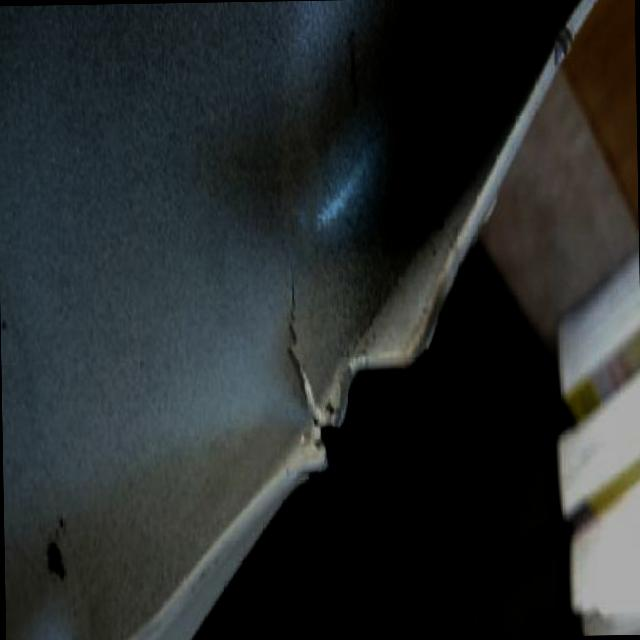crack: (286, 259, 345, 471)
